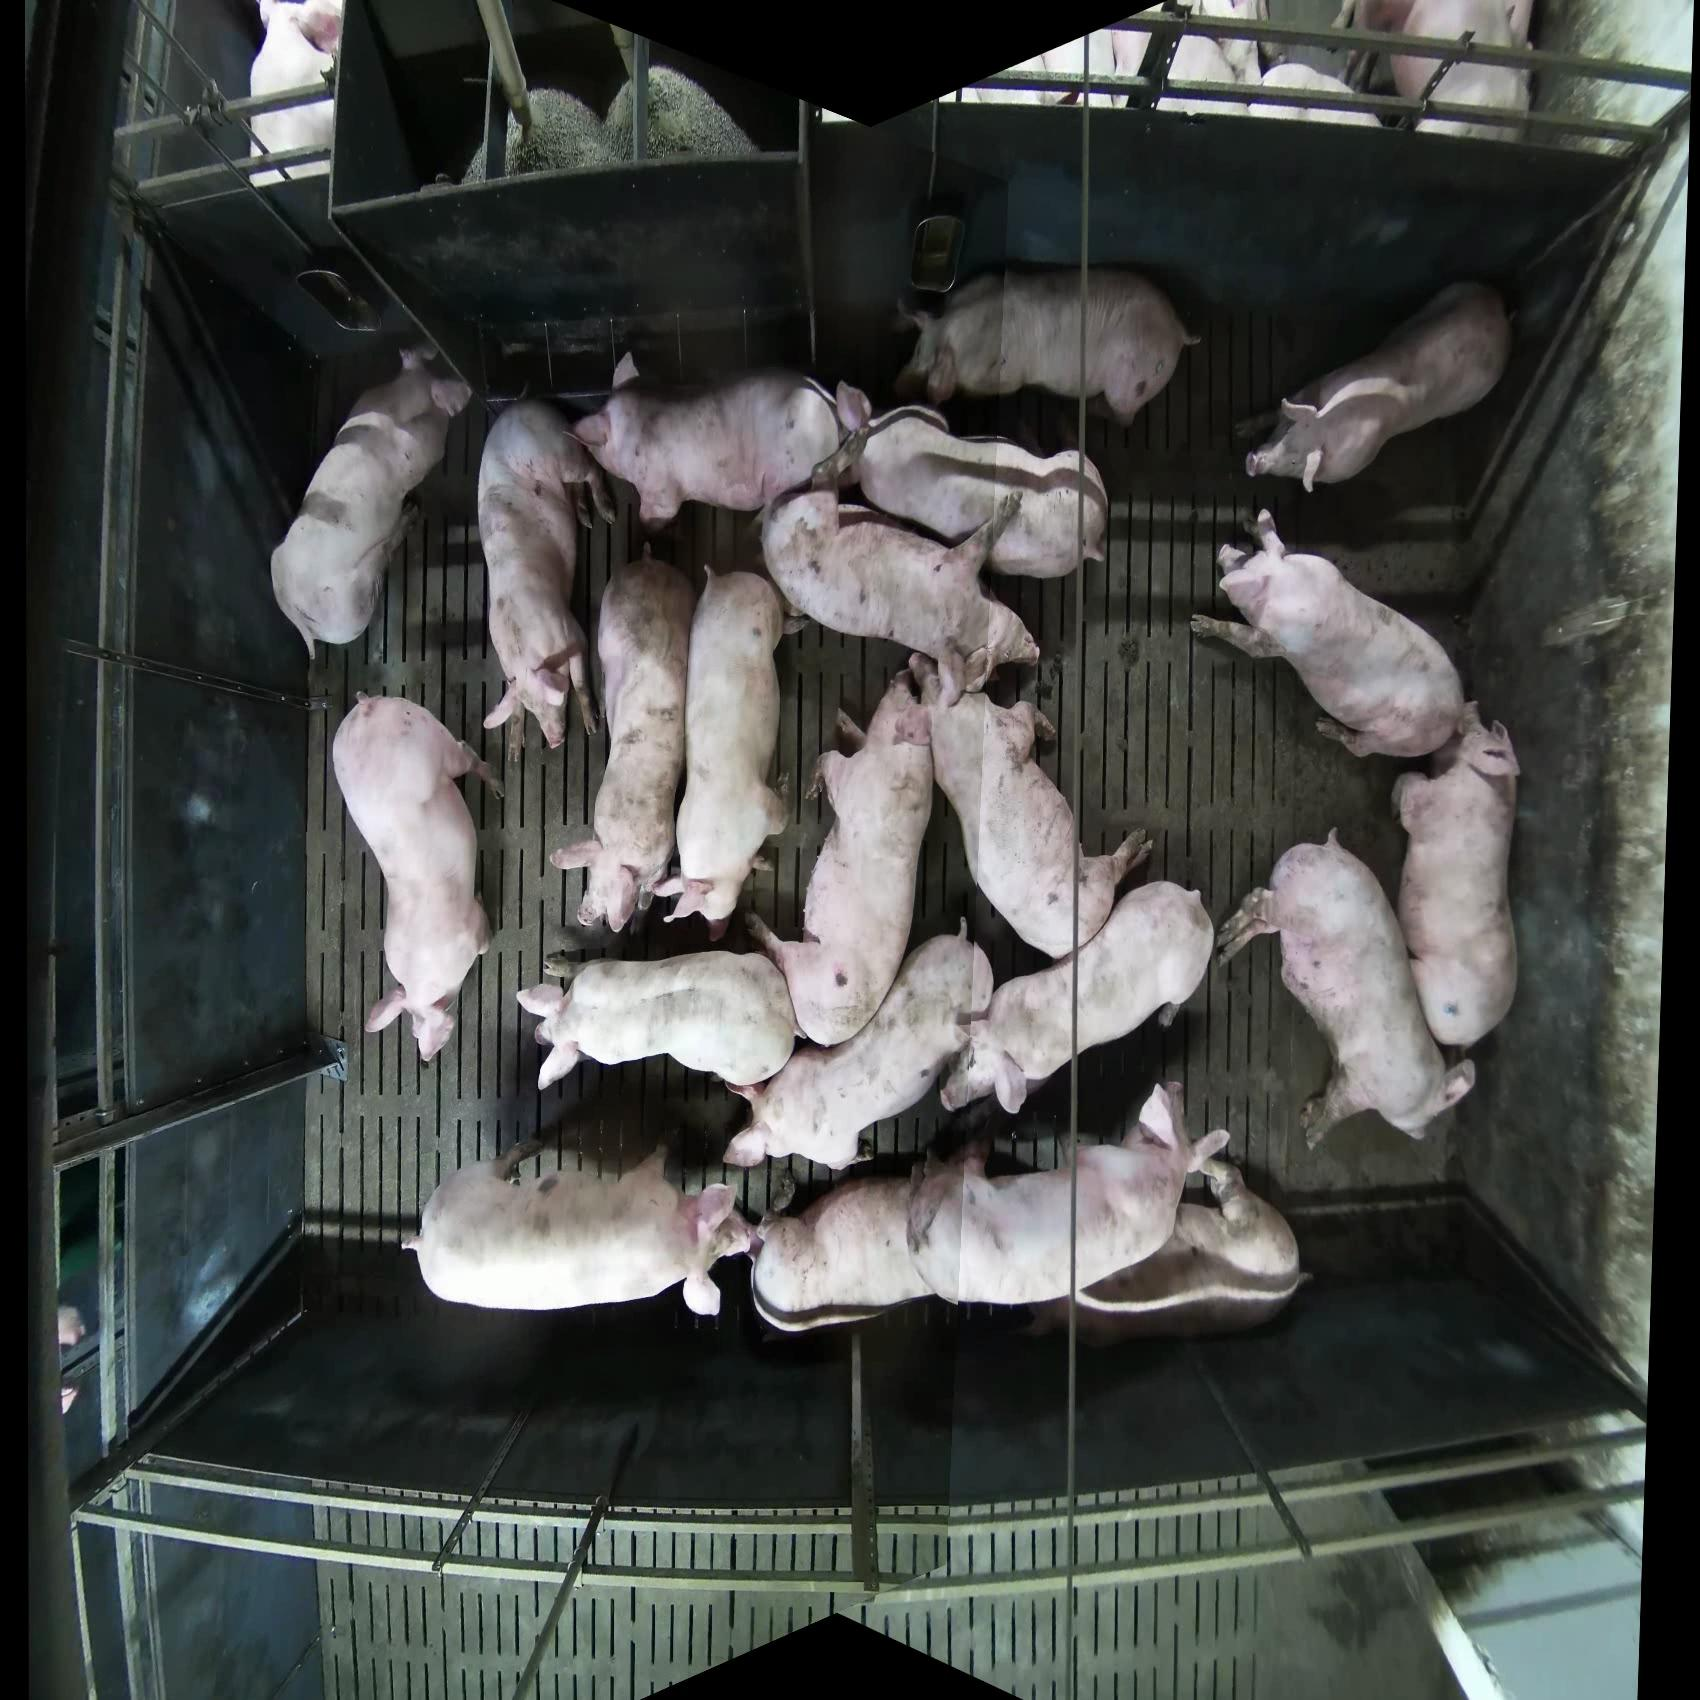pig: (1214, 827, 1477, 1150), (915, 643, 1155, 964), (746, 657, 939, 1049), (906, 1080, 1231, 1308), (1189, 508, 1470, 761), (721, 918, 993, 1172), (402, 1132, 757, 1319), (939, 880, 1216, 1116), (330, 693, 504, 1063), (269, 346, 473, 662), (758, 486, 1041, 701), (1242, 279, 1513, 495), (548, 553, 694, 936), (1020, 1154, 1312, 1345), (813, 402, 1110, 581), (571, 353, 872, 528), (651, 565, 794, 929), (475, 399, 618, 760), (894, 265, 1203, 428), (747, 1136, 993, 1336), (1392, 707, 1523, 1049), (515, 948, 799, 1091), (1387, 2, 1538, 142), (246, 2, 346, 187), (1059, 26, 1249, 114), (1185, 2, 1270, 111), (1250, 61, 1386, 128)
